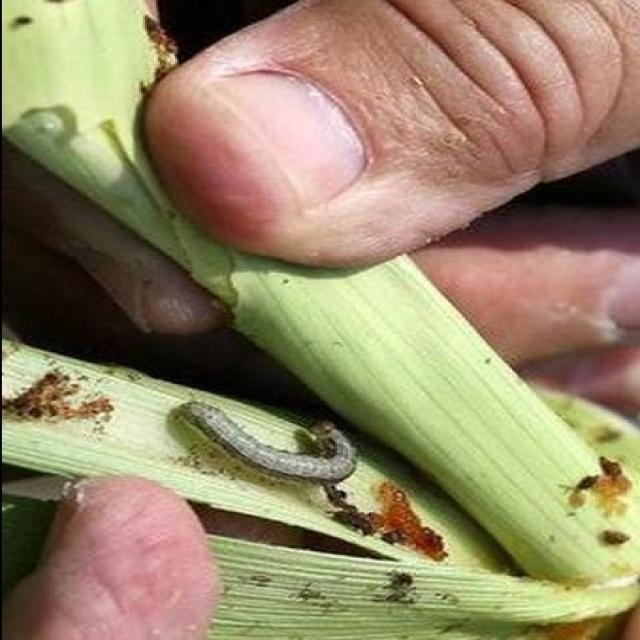army worm: (181, 405, 352, 494)
